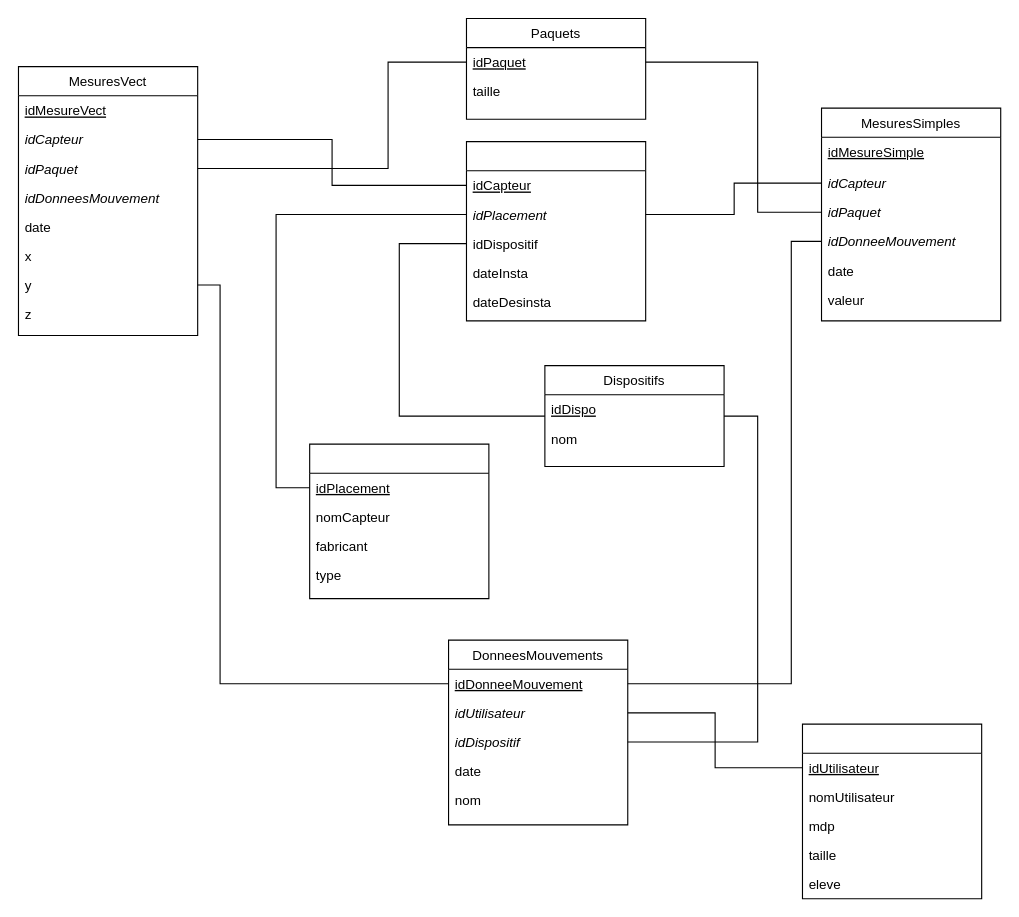
The diagram is 1019 pixels wide and 917 high, and some of its shapes have lost their labels. Here are the shapes that lost their labels. From the top down, the box of each, then its label:
(465, 141, 646, 321): Capteurs
(309, 443, 489, 599): TypeCapteur
(801, 723, 982, 899): Utilisateurs
